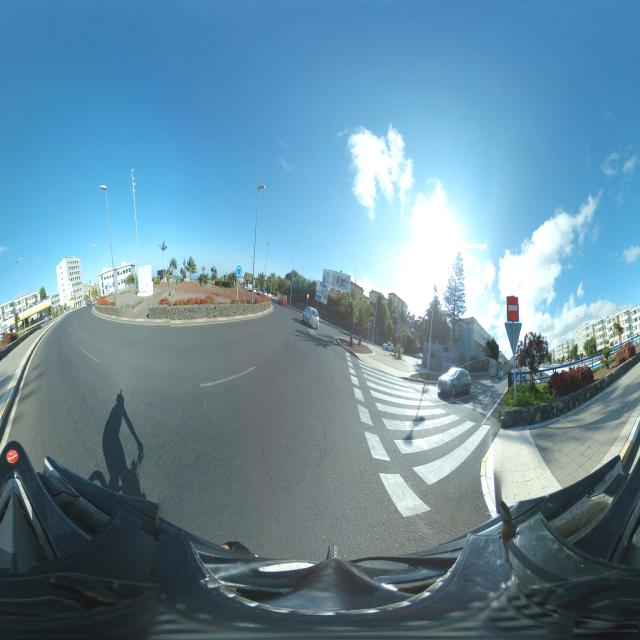car: (436, 366, 472, 401), (302, 306, 320, 330), (382, 341, 393, 353)
